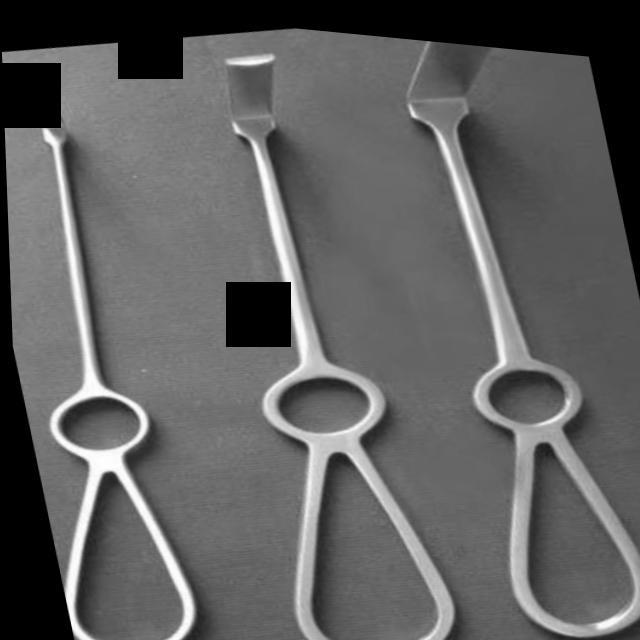Langenbach Retractor: (169, 14, 469, 640), (382, 29, 640, 640), (2, 60, 198, 640)
